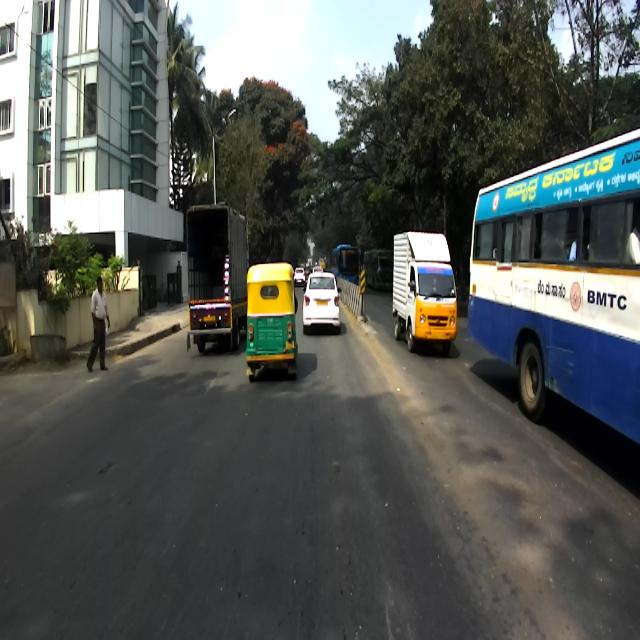auto ahead at: (250, 267, 298, 375)
car ahead at: (302, 267, 344, 329)
person ahead at: (82, 274, 111, 378)
truck ahead at: (186, 200, 248, 351), (393, 228, 461, 352)
